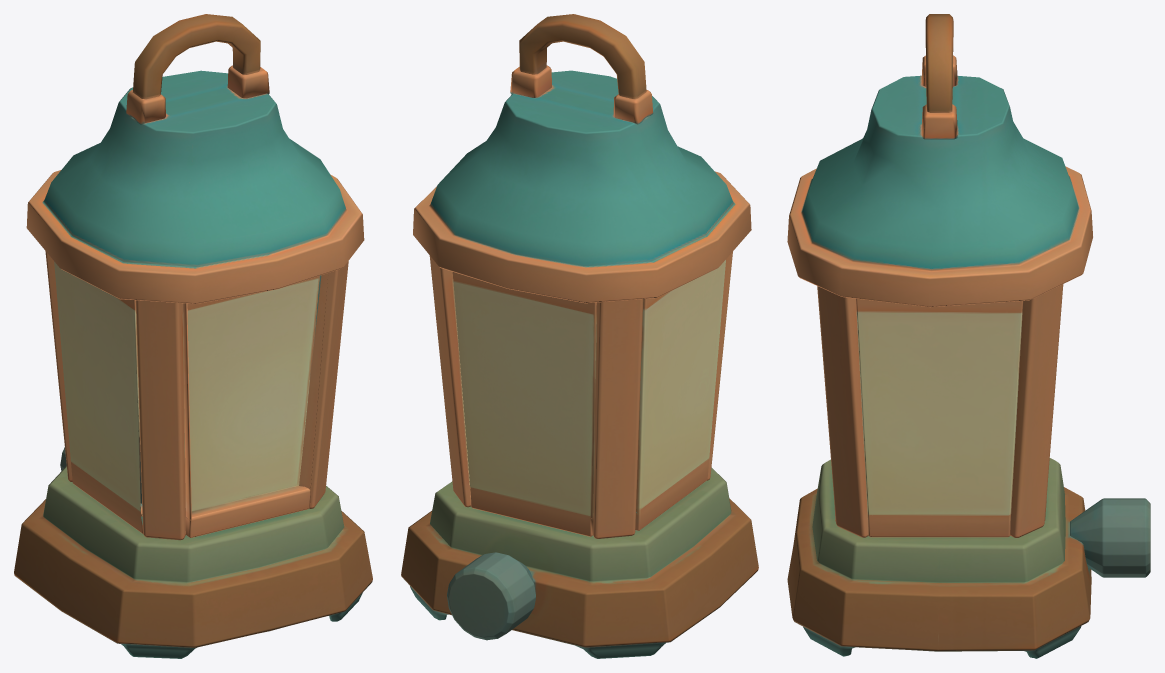
The model's file is farol.glb.
3 renders of one model, left to right at view 1: azimuth 30°, elevation 25°; view 2: azimuth 150°, elevation 25°; view 3: azimuth 270°, elevation 25°, orthographic.
Parts seen in each view (by area): view 1: tripo_58bcbe4d_1515_4af8_b0b3_fd6490f802cd; view 2: tripo_58bcbe4d_1515_4af8_b0b3_fd6490f802cd; view 3: tripo_58bcbe4d_1515_4af8_b0b3_fd6490f802cd.
Part boxes in pixels (x1,y1,x2,y2): tripo_58bcbe4d_1515_4af8_b0b3_fd6490f802cd: [14, 14, 372, 658]; tripo_58bcbe4d_1515_4af8_b0b3_fd6490f802cd: [401, 14, 758, 658]; tripo_58bcbe4d_1515_4af8_b0b3_fd6490f802cd: [787, 14, 1150, 658].
Bounding box in the file's own units: 0.5015 × 0.9995 × 0.5688.
1 material, 1 textured.
